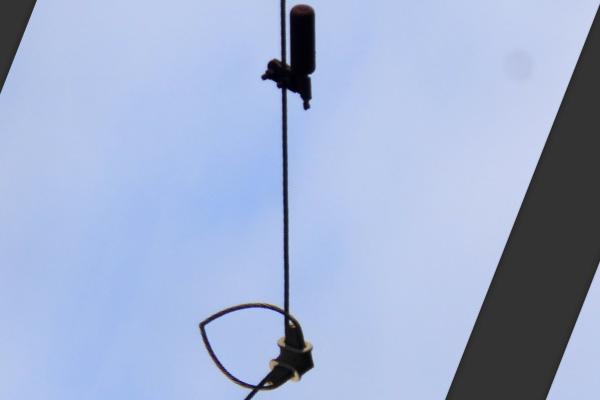damper_defect: (257, 2, 321, 113)
